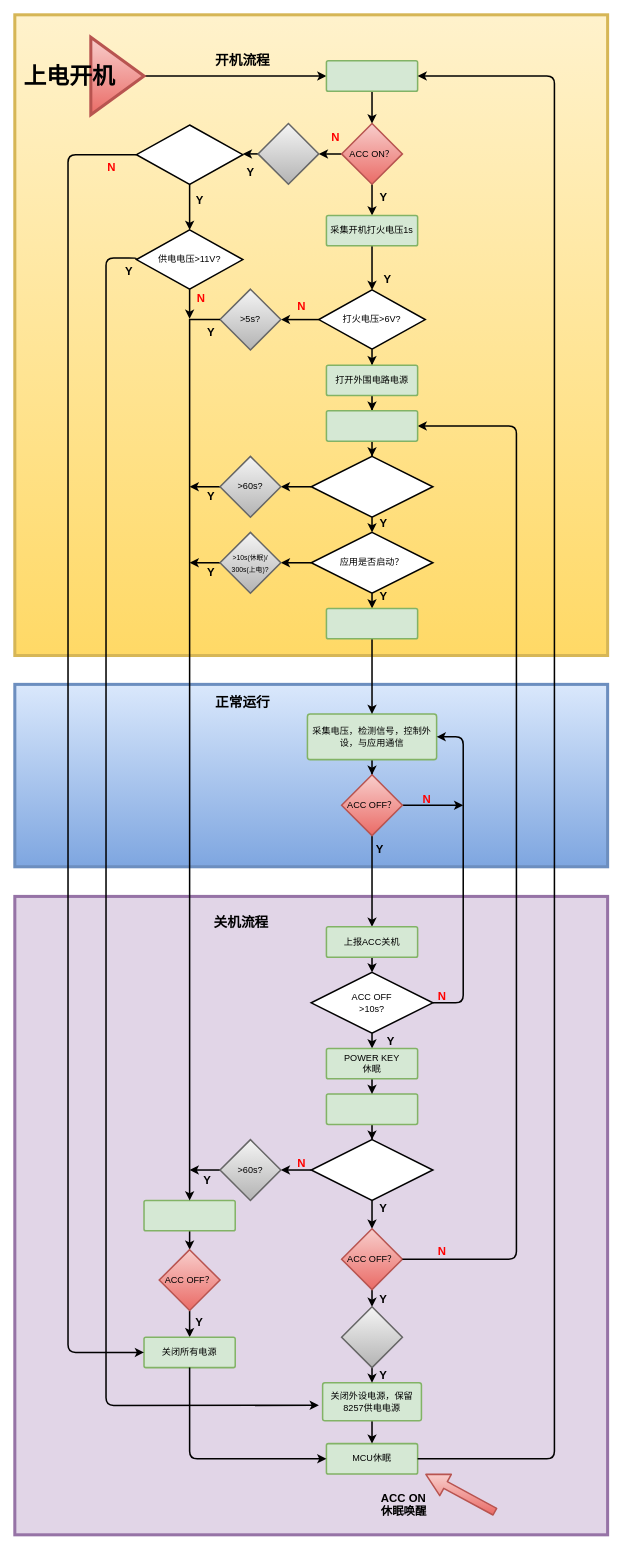
This 622x1549 diagram has some shape labels left out. Each missing label, with the box of its shape:
>10s?: (257, 122, 319, 185)
>20s?: (340, 1306, 403, 1368)
CPU已经休眠？: (310, 1138, 433, 1201)
CPU已经唤醒？: (310, 455, 433, 518)
MCU初始化: (325, 60, 418, 92)
POWER KEY 唤醒: (325, 410, 418, 442)
休眠启动？: (135, 124, 243, 185)
开功放: (325, 607, 418, 639)
标记错误: (143, 1199, 236, 1231)
等待CPU休眠信号: (325, 1093, 418, 1125)
